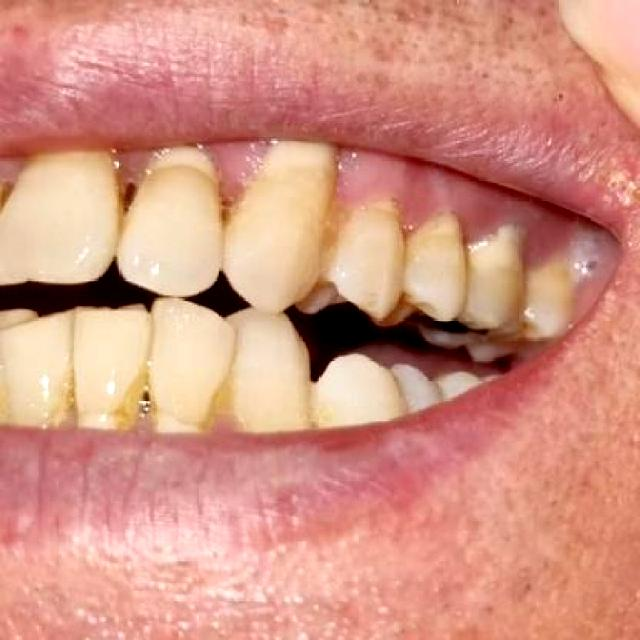Plaque: (333, 150, 591, 273), (208, 141, 276, 211), (116, 149, 156, 201), (202, 407, 244, 435)
